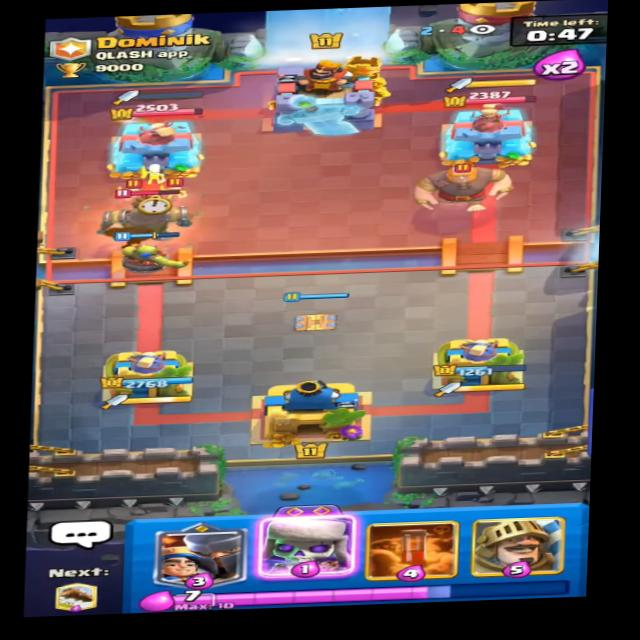Giant: (404, 150, 514, 208)
Goblinmachine: (96, 179, 199, 244)
Skeleton: (138, 161, 166, 185)
